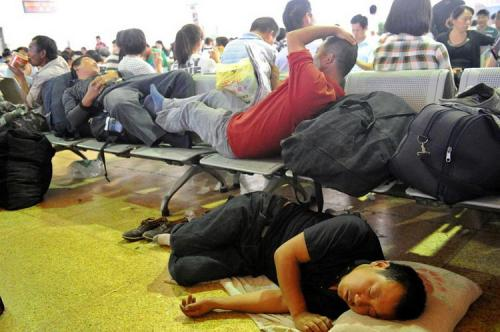10+: (1, 1, 500, 332)
down: (149, 187, 429, 331)
